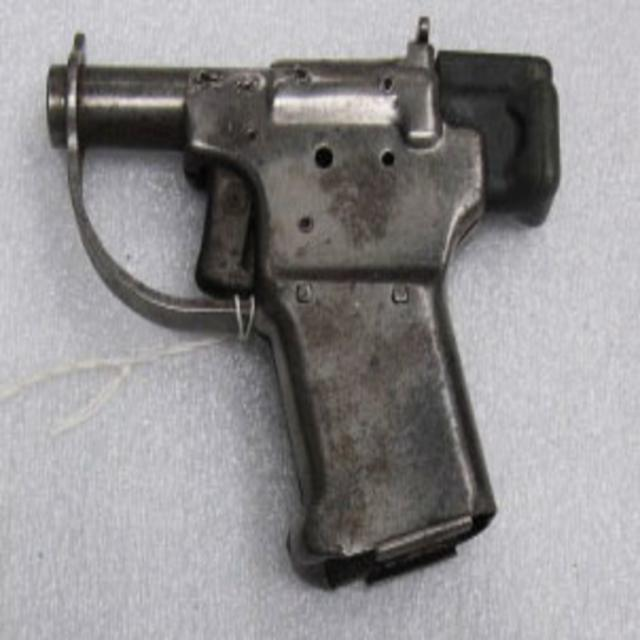Gun: (46, 18, 560, 586)
